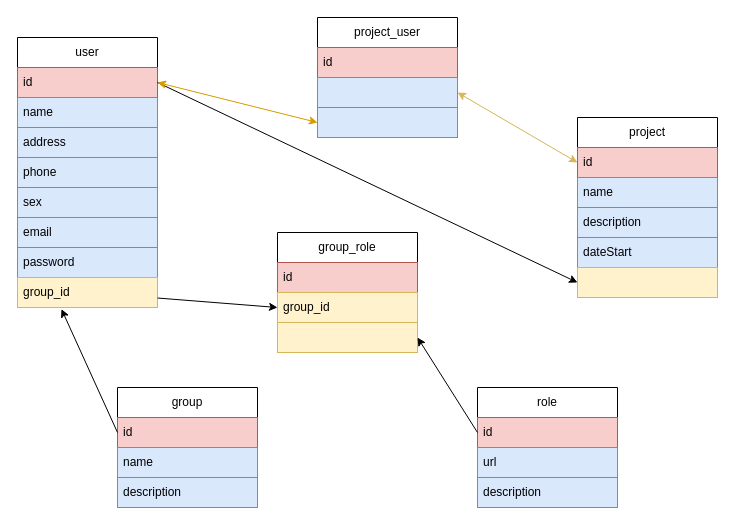
The diagram is 735 pixels wide and 525 high, and some of its shapes have lost their labels. The shapes that lost their labels are listed below. From the top down, each one's centre as x and y in pixels, then its label:
At [387,92]: "project_id".
At [387,122]: "user_id".
At [647,282]: "customerId".
At [347,337]: "role_id".
